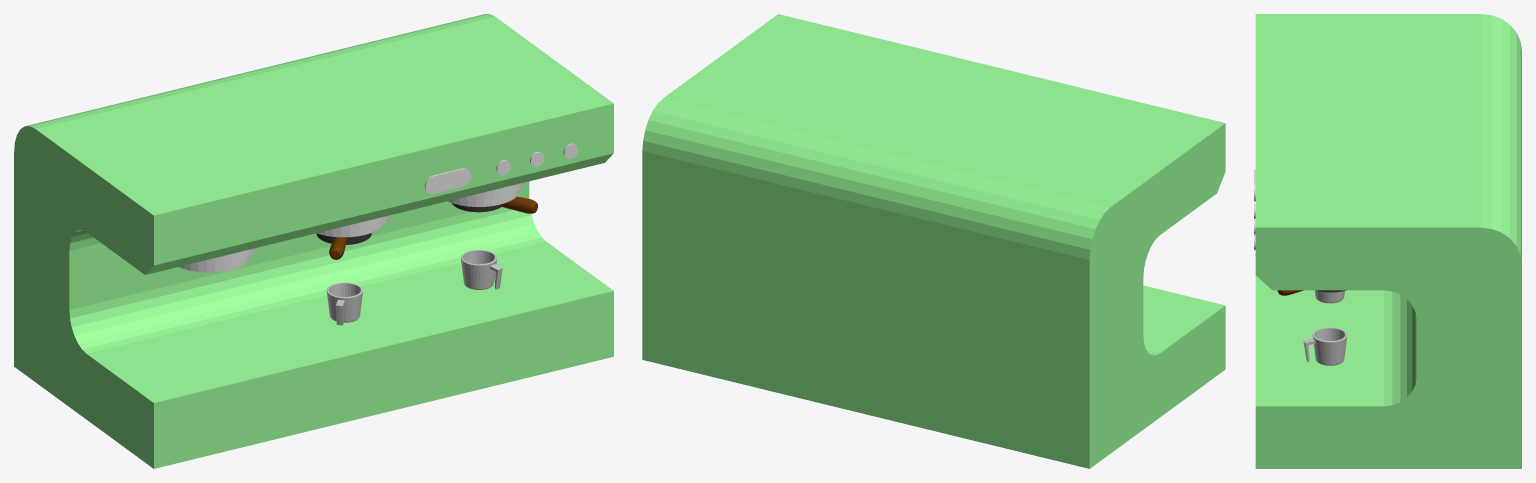
File: CoffeeMachine_Ragular.glb
The picture shows the model from 3 angles, left to right: view 1: azimuth 30°, elevation 25°; view 2: azimuth 150°, elevation 25°; view 3: azimuth 270°, elevation 25°; orthographic projection. The views are drawn at different scales.
Visible parts, largest first — view 1: Default, Cup.001, Cup.002, Extractor.001; view 2: Default; view 3: Default, Cup.001, Cup.002.
Boxes of the visible parts, x1,y1,x2,y2 form: Default: [14, 14, 613, 468]; Cup.001: [461, 250, 502, 289]; Cup.002: [326, 282, 362, 325]; Extractor.001: [452, 196, 537, 213]; Default: [642, 14, 1225, 468]; Default: [1254, 14, 1521, 468]; Cup.001: [1303, 327, 1347, 365]; Cup.002: [1315, 290, 1344, 303].
Size of the model in its own units: 1.16 by 0.612 by 0.6161.
